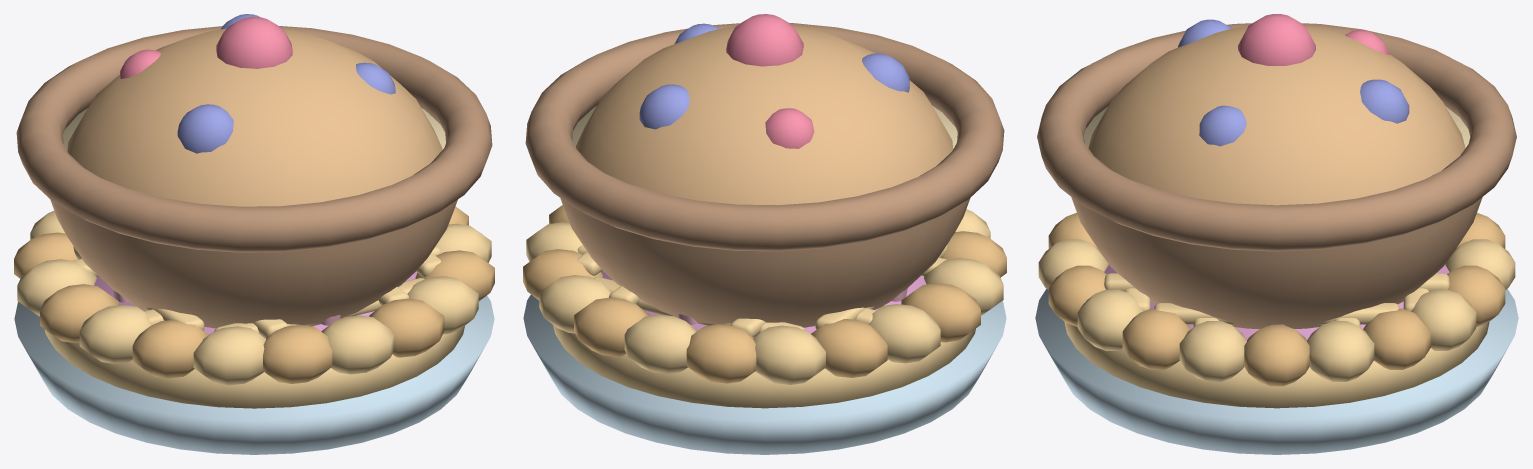
File: food.glb
The picture shows the model from 3 angles, left to right: view 1: azimuth 30°, elevation 25°; view 2: azimuth 150°, elevation 25°; view 3: azimuth 270°, elevation 25°; orthographic projection.
Visible parts, largest first — view 1: SporePie, MushroomSoup, BerryMuffin; view 2: SporePie, MushroomSoup, BerryMuffin; view 3: SporePie, MushroomSoup, BerryMuffin.
Boxes of the visible parts, x1,y1,x2,y2 form: SporePie: (14,206,494,454); MushroomSoup: (16,26,492,328); BerryMuffin: (67,14,442,325); SporePie: (523,205,1006,454); MushroomSoup: (525,23,1004,327); BerryMuffin: (576,14,953,324); SporePie: (1035,213,1518,454); MushroomSoup: (1037,23,1516,328); BerryMuffin: (1088,14,1465,325).
Size of the model in its own units: 0.2918 by 0.2346 by 0.29.
